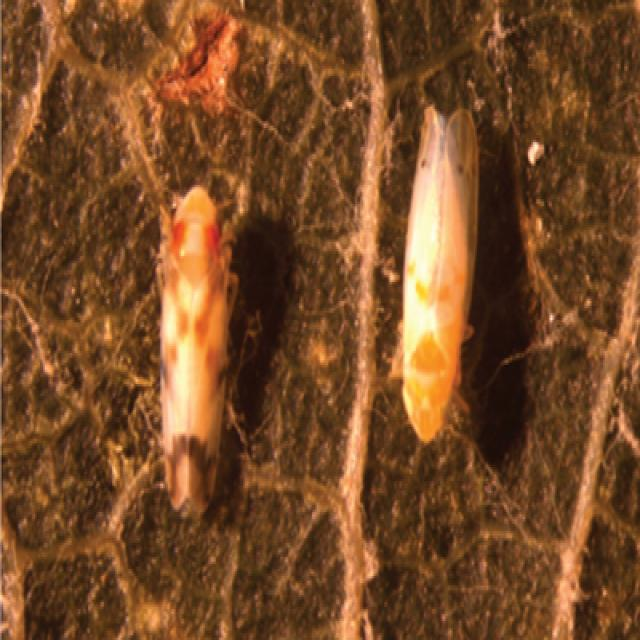Yechan: (381, 78, 493, 474), (140, 171, 240, 520)
